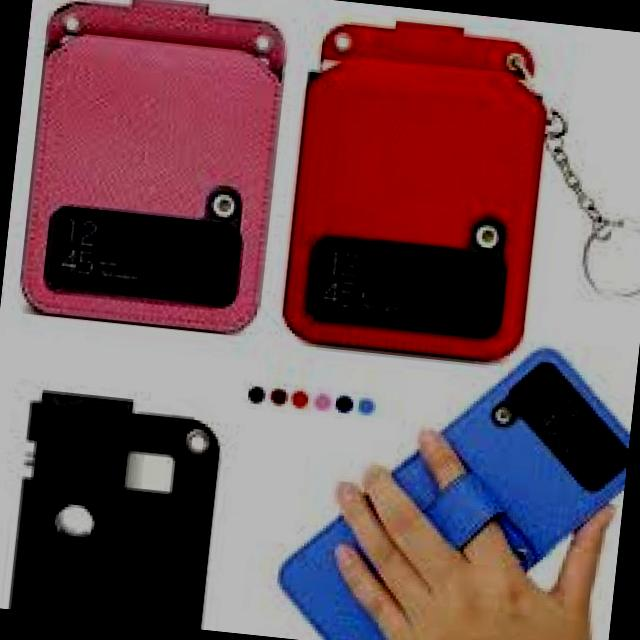lens_back: (451, 292, 500, 340), (193, 226, 239, 268), (189, 264, 237, 304), (460, 254, 498, 291), (530, 357, 564, 394), (507, 380, 538, 415)
phone: (275, 321, 637, 640)
